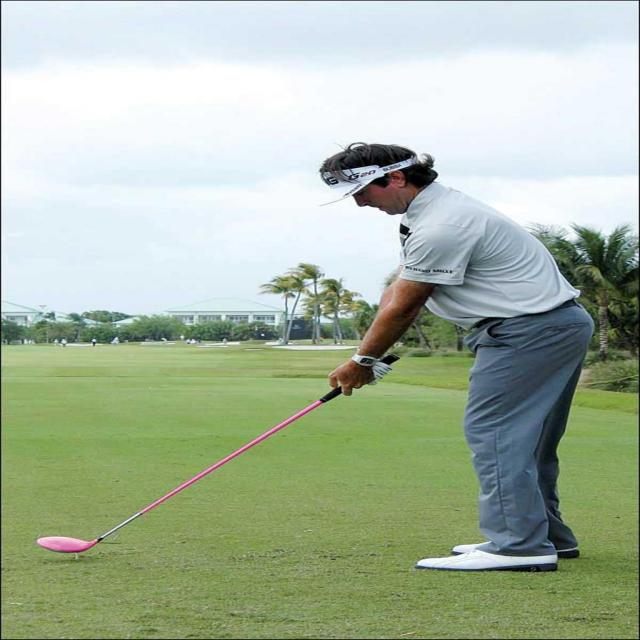nomask: (353, 171, 406, 218)
